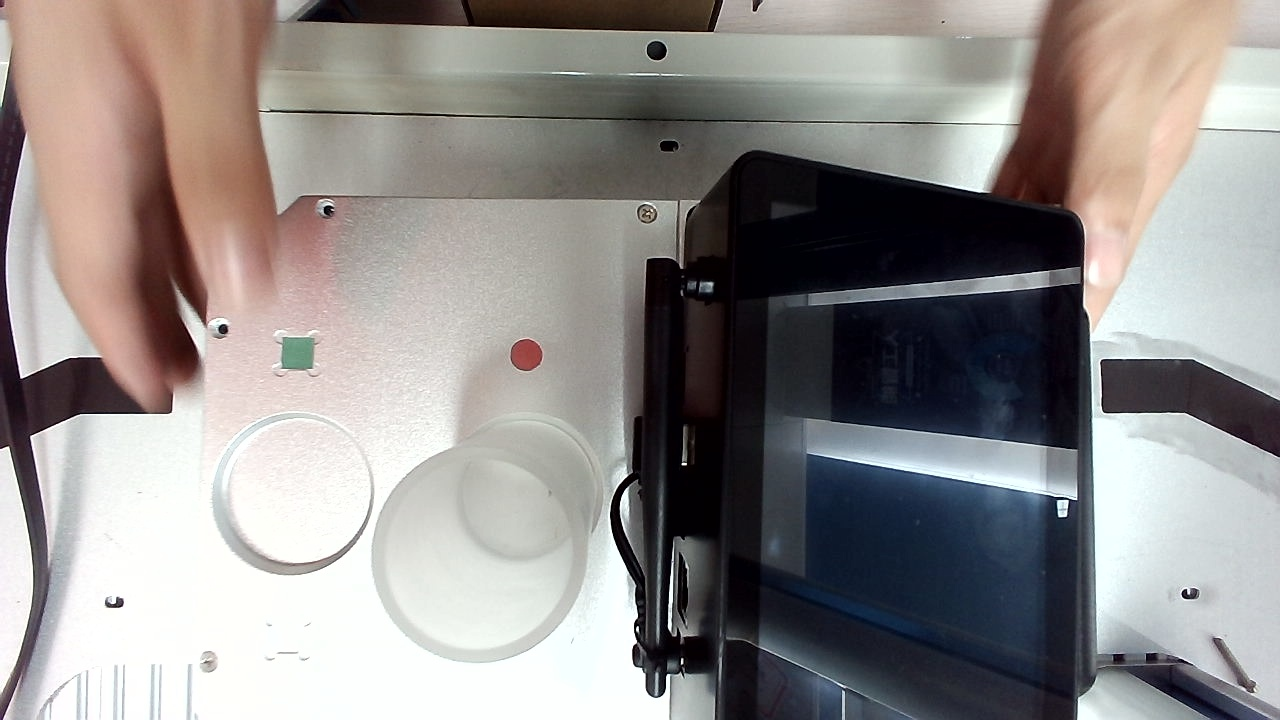bad: (649, 545, 695, 590), (295, 143, 342, 187), (272, 29, 313, 70), (706, 617, 747, 658), (845, 496, 886, 536), (470, 146, 508, 189), (800, 5, 837, 46), (359, 101, 395, 142), (538, 611, 574, 652), (808, 101, 844, 142), (714, 160, 750, 200), (838, 158, 878, 193), (406, 236, 448, 269), (828, 359, 867, 394), (769, 13, 803, 52), (839, 85, 875, 121), (614, 478, 651, 513), (282, 1, 319, 35), (329, 118, 365, 152), (811, 426, 845, 459), (575, 22, 605, 53)
defact: (686, 135, 723, 170)
pass: (653, 302, 695, 345), (296, 622, 336, 665), (530, 567, 569, 611), (643, 587, 686, 626), (847, 410, 882, 456), (465, 489, 502, 532), (446, 597, 481, 641), (587, 303, 622, 345), (769, 433, 804, 473), (500, 128, 537, 165), (667, 623, 703, 660), (574, 49, 606, 90), (686, 574, 715, 619), (445, 133, 478, 170)
toolong: (771, 138, 833, 192), (752, 91, 812, 128), (423, 88, 459, 146)
unpass: (267, 428, 313, 473), (793, 235, 838, 279), (638, 11, 684, 52), (481, 591, 522, 637), (702, 103, 741, 147), (365, 315, 405, 357), (808, 462, 845, 502), (337, 20, 372, 62), (561, 283, 598, 322), (517, 333, 552, 373), (477, 24, 514, 61), (450, 187, 481, 230), (817, 496, 853, 533), (549, 343, 585, 380), (799, 388, 835, 424), (607, 562, 641, 599), (403, 289, 436, 326), (807, 66, 842, 100), (524, 31, 556, 67), (721, 16, 753, 52)
